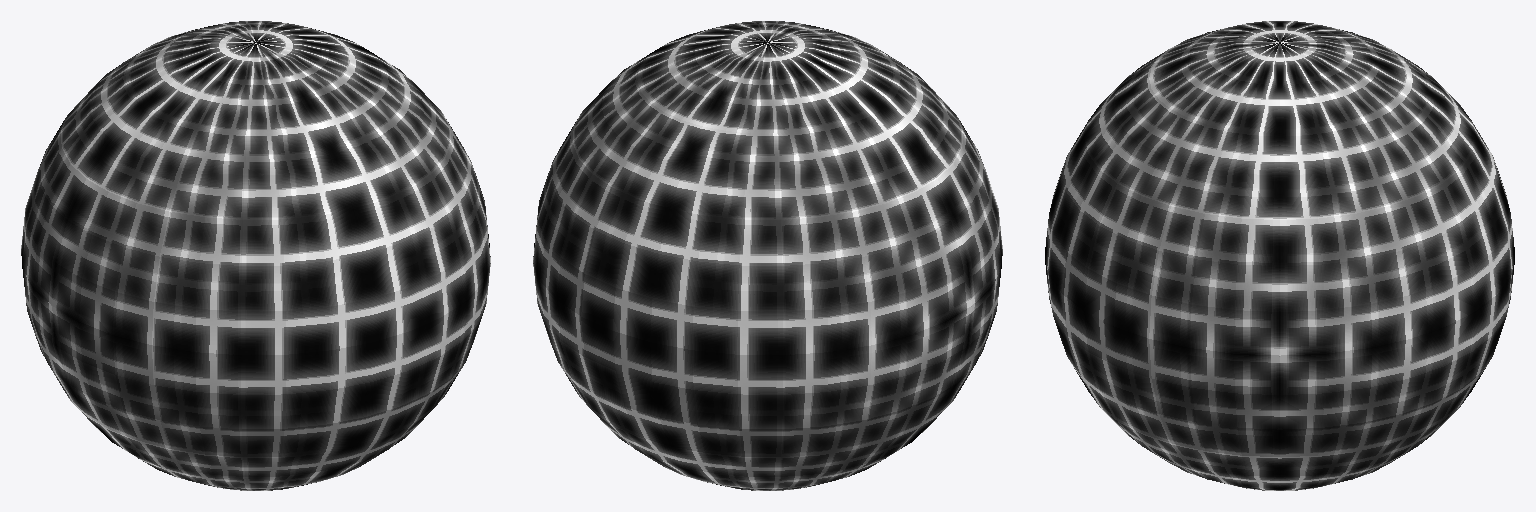
3 renders of one model, left to right at view 1: azimuth 30°, elevation 25°; view 2: azimuth 150°, elevation 25°; view 3: azimuth 270°, elevation 25°, orthographic.
Visible parts, largest first — view 1: 球; view 2: 球; view 3: 球.
Boxes of the visible parts, <box> form: 球: <box>21,21,490,490</box>; 球: <box>533,21,1002,490</box>; 球: <box>1045,21,1514,490</box>.
Size of the model in its own units: 2 by 2 by 2.
1 materials, 1 textured.